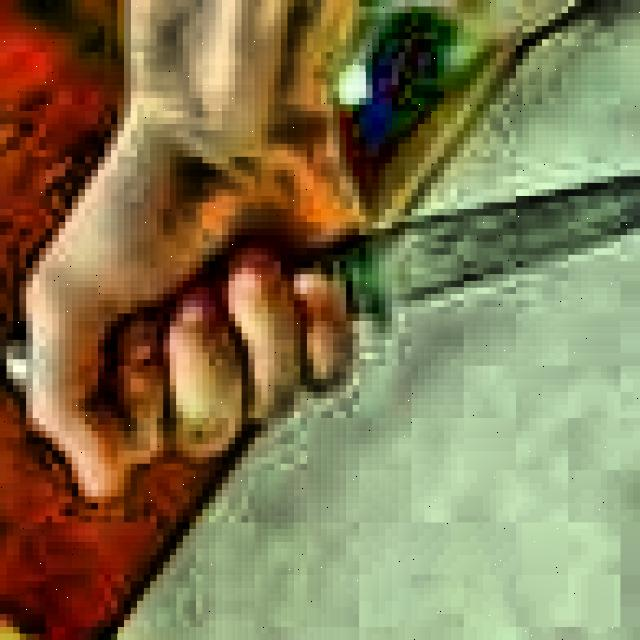knife: (8, 181, 640, 399)
